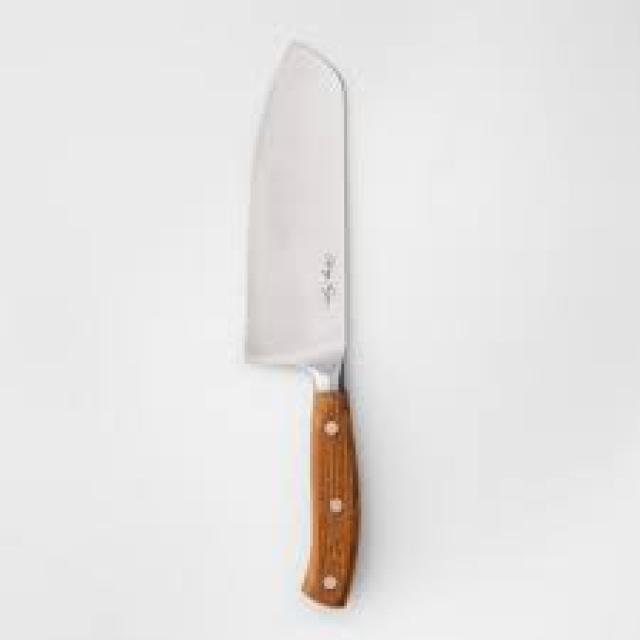knives: (236, 34, 367, 615)
